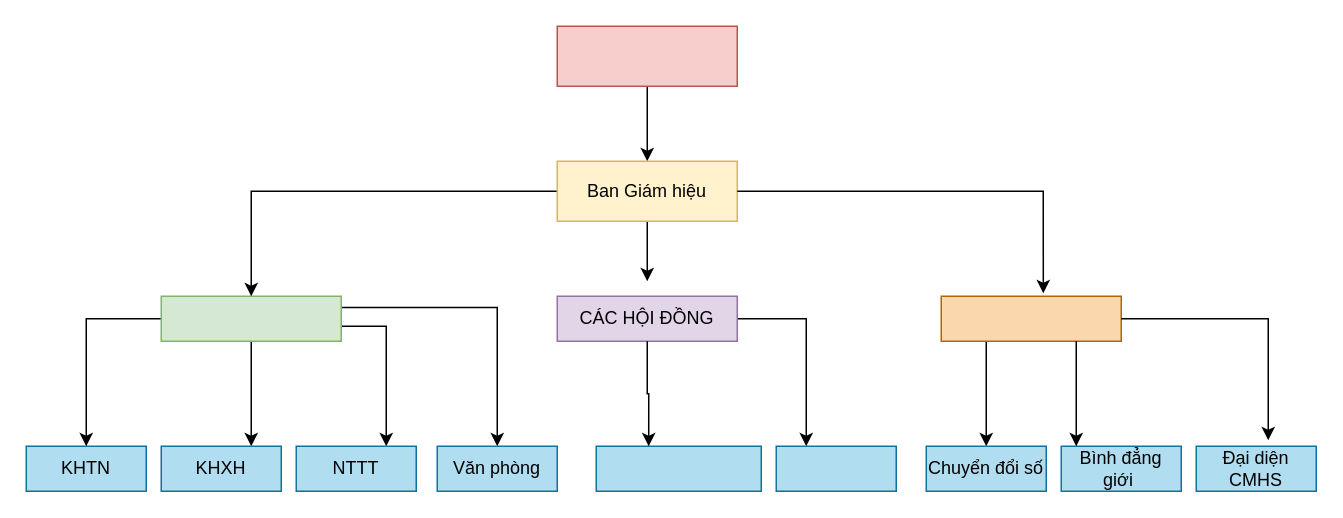
Image size: 1343x518. Some labels were removed from this diagram. The shapes that lost their labels are listed below. From the top down, each one's box as (x1, y1, x2, y2) in pixels, then its label:
(556, 25, 737, 86): Hội đồng trường
(160, 295, 341, 341): CÁC TỔ
(940, 295, 1121, 341): CÁC BAN
(595, 445, 761, 491): Thi đua, khen thưởng
(775, 445, 896, 491): Kỉ luật
